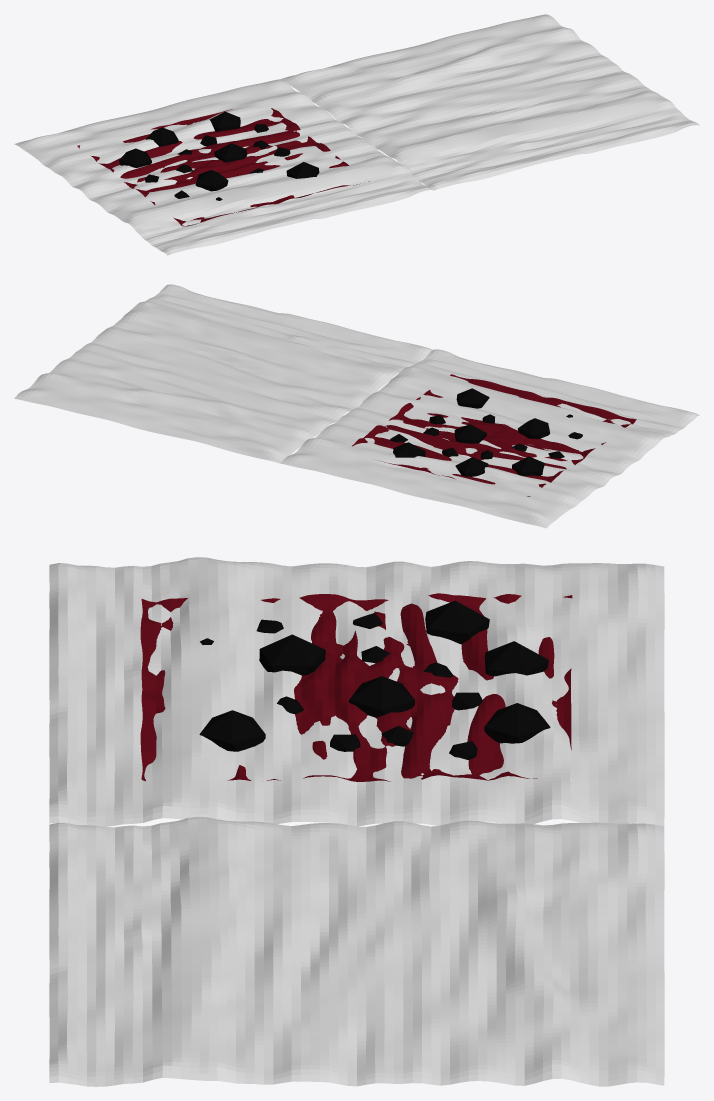
Rendered from rocky_obstacle.fbx.
The picture shows the model from 3 angles, top to bottom: view 1: azimuth 30°, elevation 25°; view 2: azimuth 150°, elevation 25°; view 3: azimuth 270°, elevation 25°; orthographic projection. The views are drawn at different scales.
Visible parts, largest first — view 1: Plane, Plane.001, Plane.002, Icosphere.006, Icosphere.016, Icosphere.015, Icosphere.003, Icosphere.010, Icosphere; view 2: Plane, Plane.001, Plane.002, Icosphere.006, Icosphere.016, Icosphere, Icosphere.003, Icosphere.010; view 3: Plane, Plane.001, Plane.002, Icosphere.006, Icosphere.016, Icosphere.003, Icosphere, Icosphere.015, Icosphere.010.
Part boxes in pixels (bbox=[...]): Plane: bbox=[280, 14, 699, 190]; Plane.001: bbox=[14, 79, 433, 255]; Plane.002: bbox=[77, 108, 369, 226]; Icosphere.006: bbox=[195, 170, 228, 191]; Icosphere.016: bbox=[119, 148, 151, 167]; Icosphere.015: bbox=[209, 111, 240, 131]; Icosphere.003: bbox=[214, 143, 246, 162]; Icosphere.010: bbox=[145, 127, 178, 146]; Icosphere: bbox=[286, 162, 319, 178]; Plane: bbox=[14, 284, 432, 463]; Plane.001: bbox=[280, 349, 699, 528]; Plane.002: bbox=[352, 374, 636, 496]; Icosphere.006: bbox=[517, 418, 550, 438]; Icosphere.016: bbox=[512, 456, 544, 476]; Icosphere: bbox=[456, 388, 489, 408]; Icosphere.003: bbox=[454, 424, 486, 443]; Icosphere.010: bbox=[455, 457, 488, 476]; Plane: bbox=[49, 816, 664, 1086]; Plane.001: bbox=[49, 557, 664, 826]; Plane.002: bbox=[140, 593, 572, 781]; Icosphere.006: bbox=[259, 634, 325, 675]; Icosphere.016: bbox=[425, 600, 489, 644]; Icosphere.003: bbox=[349, 676, 414, 717]; Icosphere: bbox=[199, 710, 265, 751]; Icosphere.015: bbox=[484, 703, 550, 743]; Icosphere.010: bbox=[484, 641, 548, 676].
Size of the model in its own units: 2380 by 150 by 1191.
